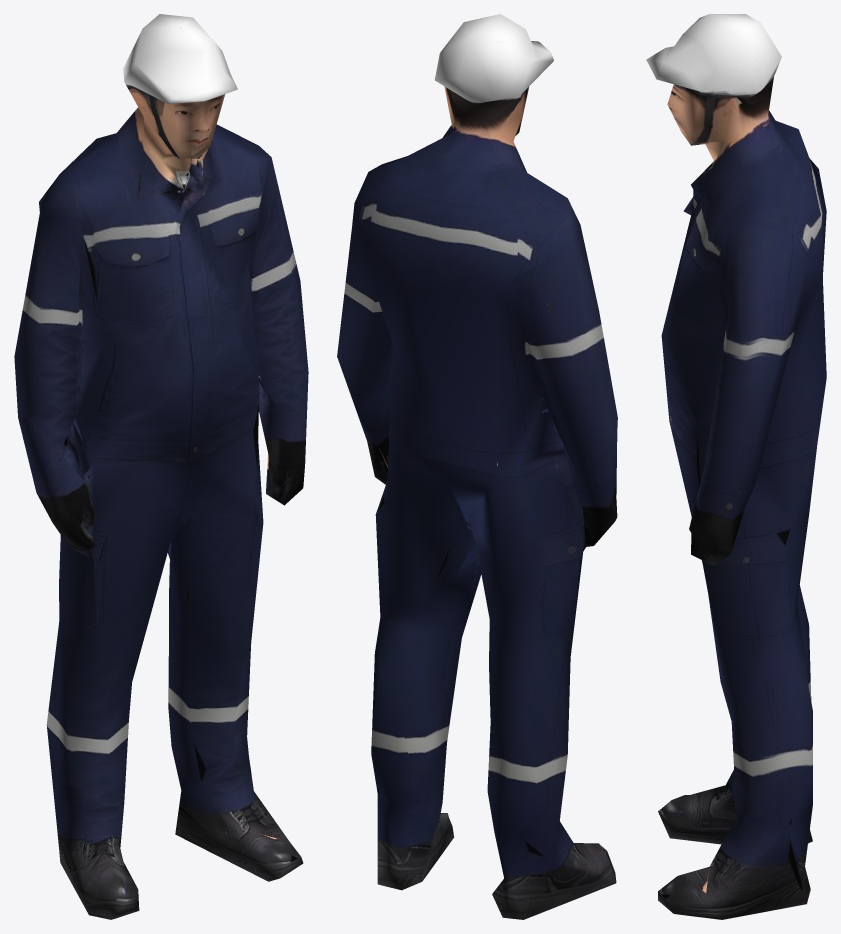
The model's file is Meshy_AI__0618090247_texture_optimized.glb.
The picture shows the model from 3 angles, left to right: view 1: azimuth 30°, elevation 25°; view 2: azimuth 150°, elevation 25°; view 3: azimuth 270°, elevation 25°; orthographic projection.
Visible parts, largest first — view 1: Mesh1.0; view 2: Mesh1.0; view 3: Mesh1.0.
Part boxes in pixels (bbox=[...]): Mesh1.0: bbox=[14, 14, 308, 919]; Mesh1.0: bbox=[337, 14, 617, 919]; Mesh1.0: bbox=[646, 14, 826, 919].
Bounding box in the file's own units: 0.6696 × 1.99 × 0.3805.
1 material, 1 textured.
